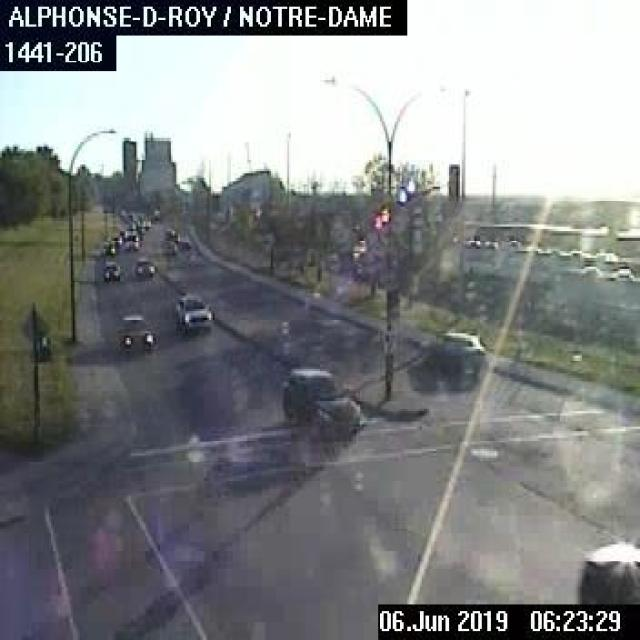vehicle: (278, 364, 364, 429), (575, 538, 638, 600), (418, 329, 484, 369), (171, 291, 213, 331), (116, 311, 151, 349), (122, 228, 140, 251), (134, 260, 152, 278), (102, 260, 118, 280), (100, 241, 116, 256)
